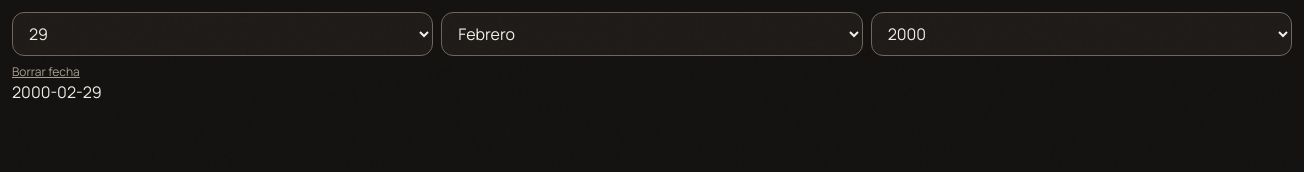
it: fecha de nacimiento › invalida 29 de febrero al cambiar a un año no bisiesto
Step 1. Select "2001" in the dropdown named "Año de nacimiento" → [1081, 34], box [871,12,1292,56]
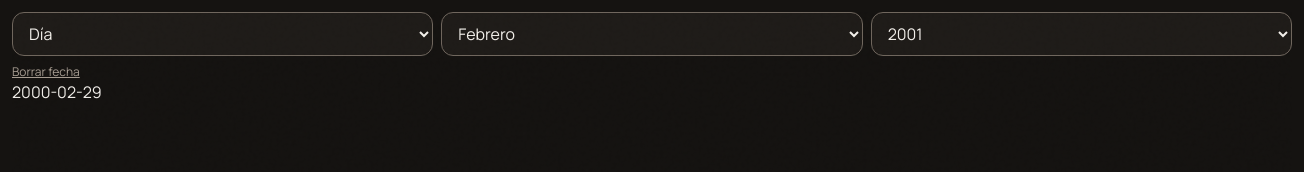
Now the dropdown named "Día de nacimiento" shows "Día"
Step 2. Select "28" in the dropdown named "Día de nacimiento" → [223, 34], box [12,12,433,56]
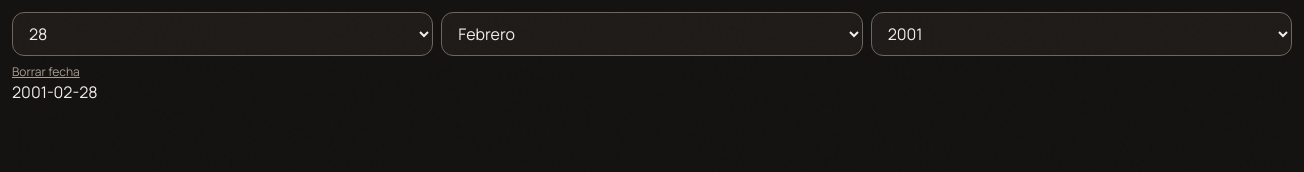
Now the text named "Fecha guardada" reads "2001-02-28", box [12,81,98,103]
